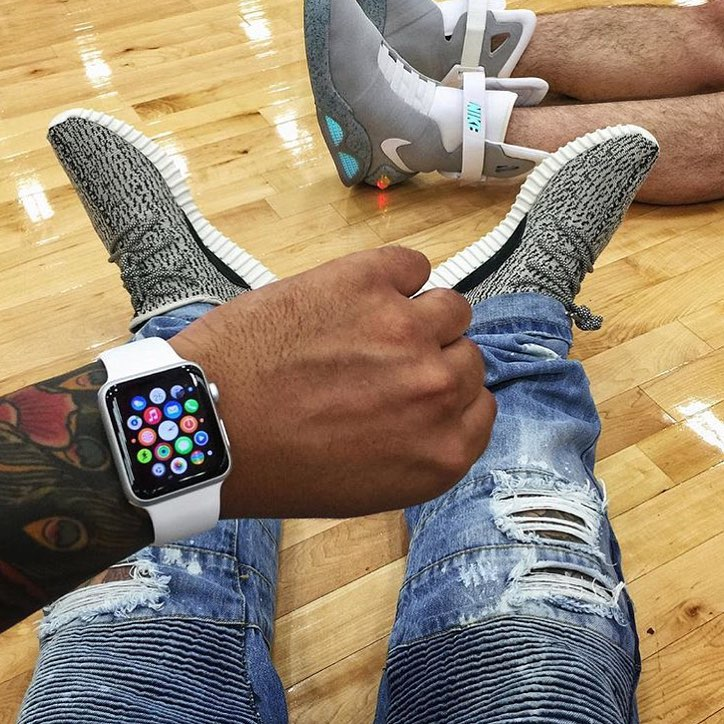sneaker: (18, 90, 298, 331), (389, 116, 672, 354), (294, 1, 569, 201), (350, 1, 556, 109)
